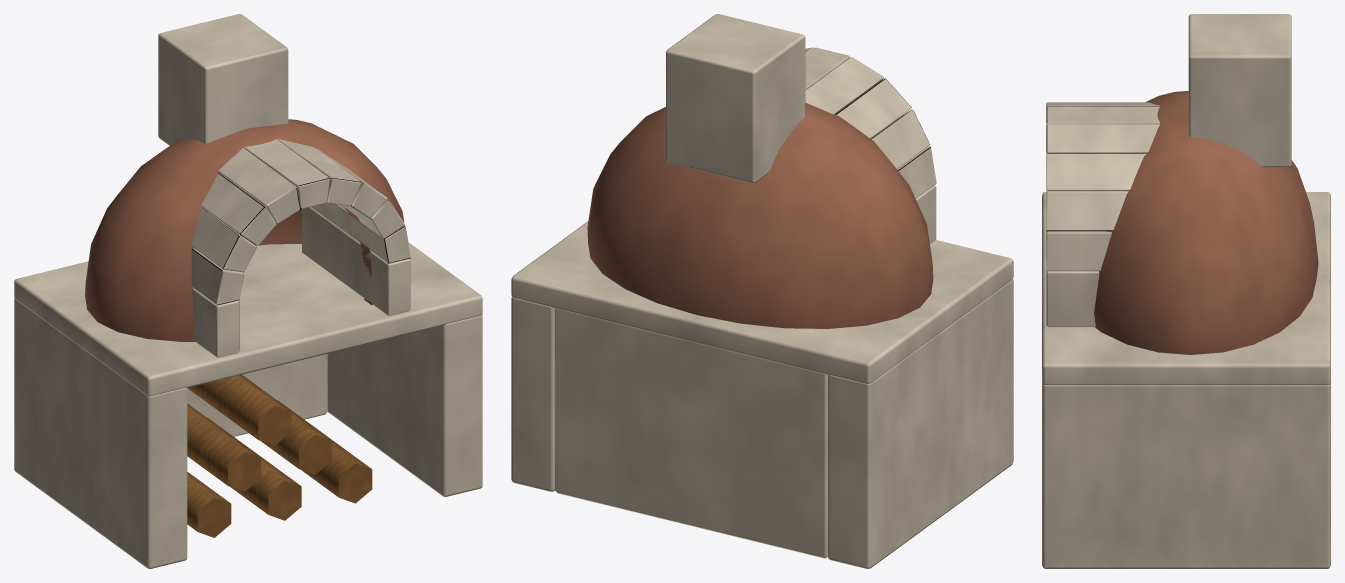
File: Furn_BigKiln.fbx
The picture shows the model from 3 angles, left to right: view 1: azimuth 30°, elevation 25°; view 2: azimuth 150°, elevation 25°; view 3: azimuth 270°, elevation 25°; orthographic projection. The views are drawn at different scales.
Parts seen in each view (by area): view 1: Furn_BigKiln_Mesh; view 2: Furn_BigKiln_Mesh; view 3: Furn_BigKiln_Mesh.
Part boxes in pixels (<box>): Furn_BigKiln_Mesh: <box>14,14,482,568</box>; Furn_BigKiln_Mesh: <box>511,14,1013,568</box>; Furn_BigKiln_Mesh: <box>1042,14,1330,568</box>.
Size of the model in its own units: 2 by 2.4 by 1.4.
Materials: 3 (3 with a texture image).
